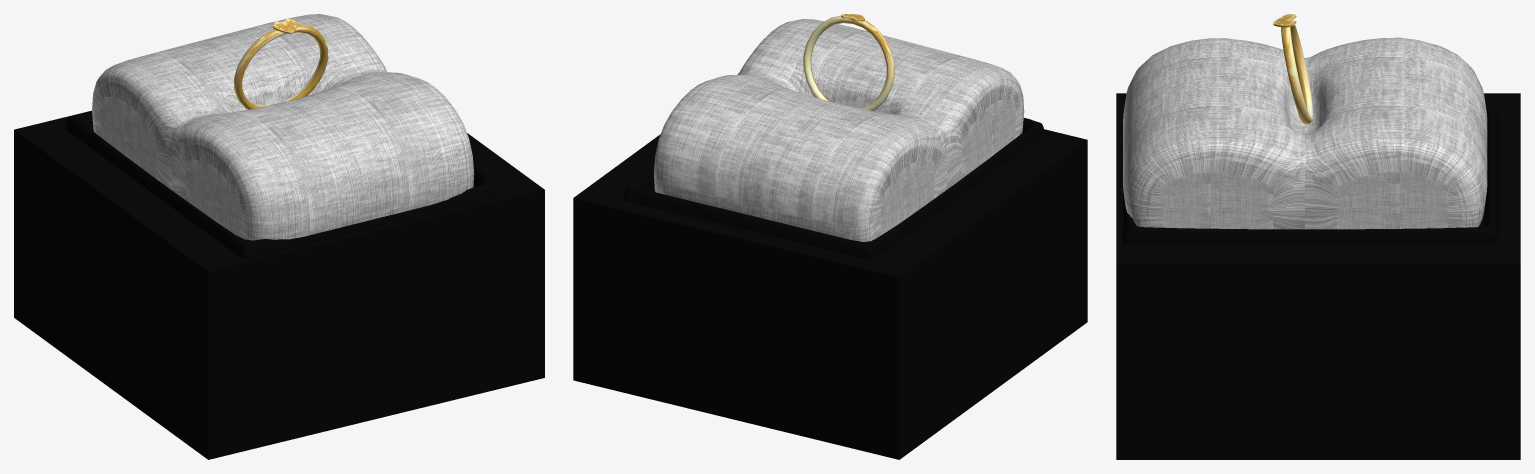
File: Clementimering.fbx
3 views of the same model, side by side, from view 1: azimuth 30°, elevation 25°; view 2: azimuth 150°, elevation 25°; view 3: azimuth 270°, elevation 25° (orthographic). The views are drawn at different scales.
Visible parts, largest first — view 1: box, Chusion, ringbox, ClementineHeartring; view 2: box, Chusion, ringbox, ClementineHeartring; view 3: box, Chusion, ringbox, ClementineHeartring.
Boxes of the visible parts, x1,y1,x2,y2 form: box: (14,110,544,459); Chusion: (92,14,474,240); ringbox: (66,111,500,259); ClementineHeartring: (234,24,328,109); box: (573,129,1087,459); Chusion: (654,19,1024,241); ringbox: (623,118,1044,259); ClementineHeartring: (803,15,894,110); box: (1116,93,1520,459); Chusion: (1123,37,1487,229); ringbox: (1123,101,1498,244); ClementineHeartring: (1281,25,1313,124).
Size of the model in its own units: 4.43 by 4.25 by 4.43.
